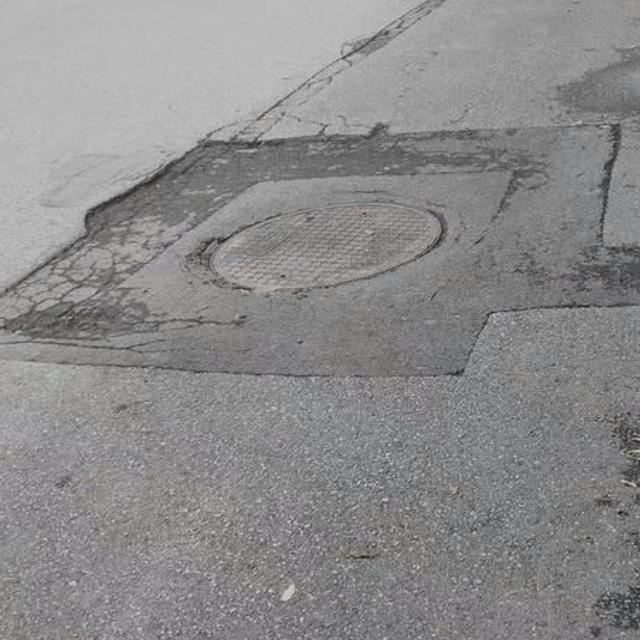circle: (28, 151, 600, 369)
